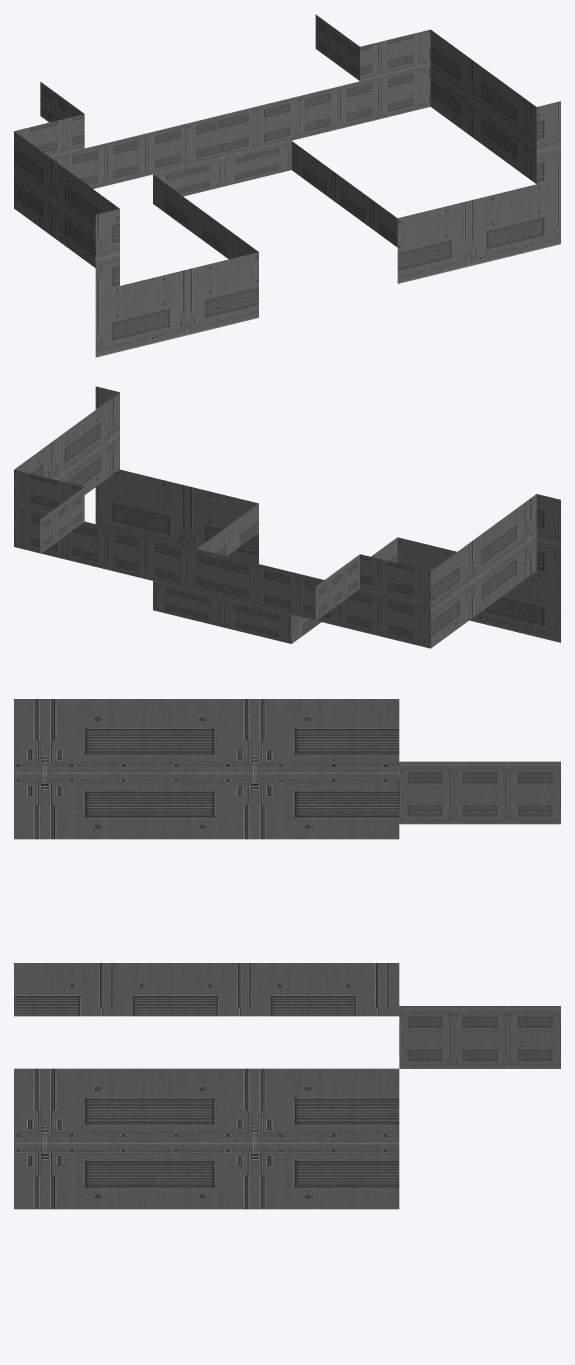
The model's file is stat2.fbx.
3 views of the same model, one above another, from view 1: azimuth 30°, elevation 25°; view 2: azimuth 150°, elevation 25°; view 3: azimuth 270°, elevation 25° (orthographic). The views are drawn at different scales.
Visible parts, largest first — view 1: stat2; view 2: stat2; view 3: stat2.
Part boxes in pixels (x1=…): stat2: x1=14, y1=14, x2=560, y2=357; stat2: x1=14, y1=386, x2=560, y2=648; stat2: x1=14, y1=699, x2=560, y2=1209.
Size of the model in its own units: 760 by 223 by 425.
